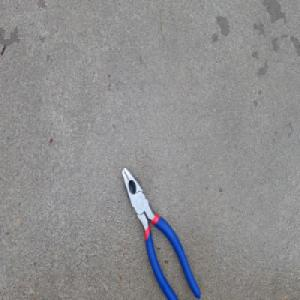Pliers: (121, 165, 200, 300)
